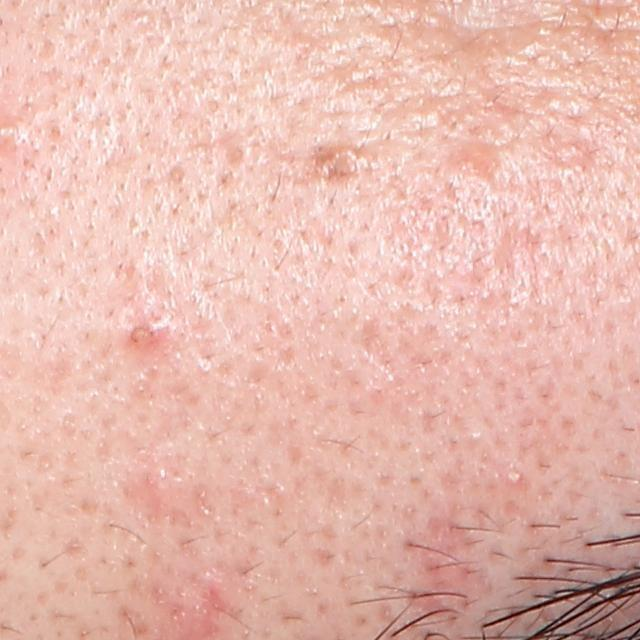atrophic_scar: (359, 320, 394, 382)
papule: (123, 313, 177, 359)
